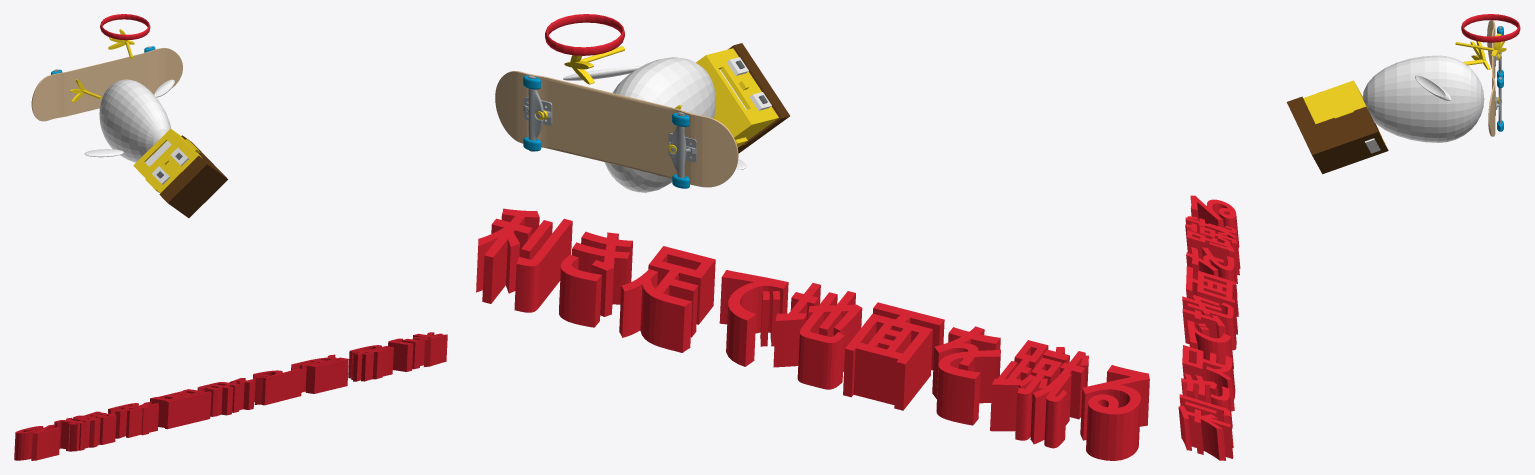
The model's file is tinker.obj.
The picture shows the model from 3 angles, left to right: view 1: azimuth 30°, elevation 25°; view 2: azimuth 150°, elevation 25°; view 3: azimuth 270°, elevation 25°; orthographic projection. The views are drawn at different scales.
Parts seen in each view (by area): view 1: group_0_15277357, group_0_14860437, group_0_16448250, group_0_6306067, group_0_16768282; view 2: group_0_15277357, group_0_14860437, group_0_16448250, group_0_16768282, group_0_10988977, group_0_6306067, group_0_40919; view 3: group_0_15277357, group_0_16448250, group_0_6306067, group_0_16768282, group_0_14860437.
Boxes of the visible parts, bbox=[...] form: group_0_15277357: bbox=[14, 14, 447, 460]; group_0_14860437: bbox=[31, 48, 182, 121]; group_0_16448250: bbox=[84, 79, 188, 184]; group_0_6306067: bbox=[159, 135, 227, 217]; group_0_16768282: bbox=[70, 29, 201, 193]; group_0_15277357: bbox=[476, 14, 1149, 460]; group_0_14860437: bbox=[495, 71, 738, 187]; group_0_16448250: bbox=[563, 57, 771, 192]; group_0_16768282: bbox=[536, 46, 778, 153]; group_0_10988977: bbox=[523, 75, 696, 177]; group_0_6306067: bbox=[728, 43, 789, 153]; group_0_40919: bbox=[523, 75, 689, 188]; group_0_15277357: bbox=[1178, 14, 1520, 460]; group_0_16448250: bbox=[1362, 55, 1484, 153]; group_0_6306067: bbox=[1286, 96, 1388, 174]; group_0_16768282: bbox=[1303, 33, 1506, 145]; group_0_14860437: bbox=[1487, 20, 1495, 136].
Bounding box in the file's own units: 165 × 113 × 104.
